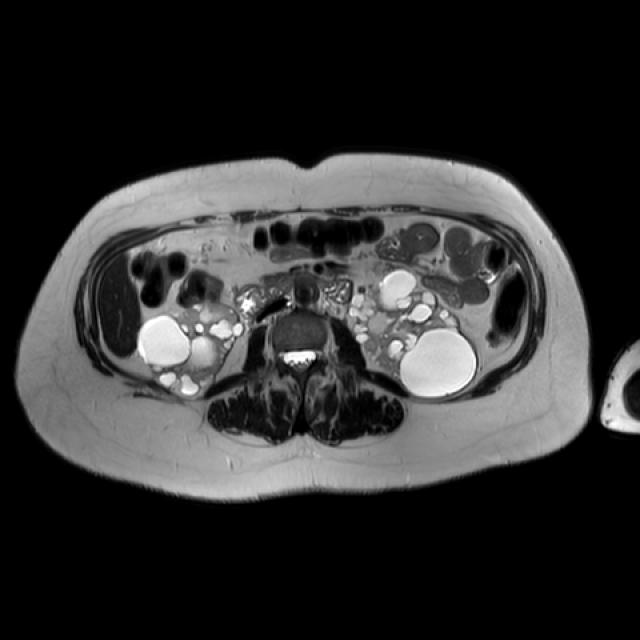sag: (137, 301, 245, 398)
sol: (348, 270, 478, 398)
